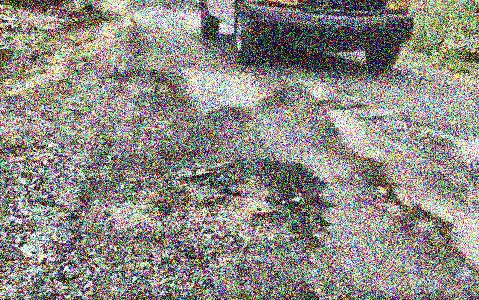pothole: (170, 156, 339, 250)
